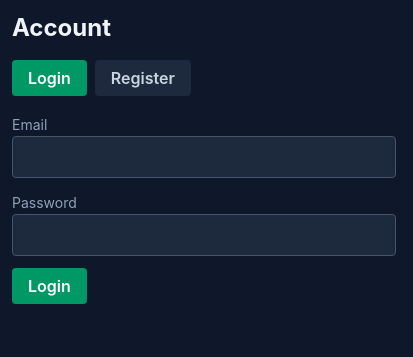
Test: login › surfaces the SDK's error message on a failed login
Step 1. Type "k@example.com" into the field labelled "Email" → [204, 157], box [12,136,396,178]
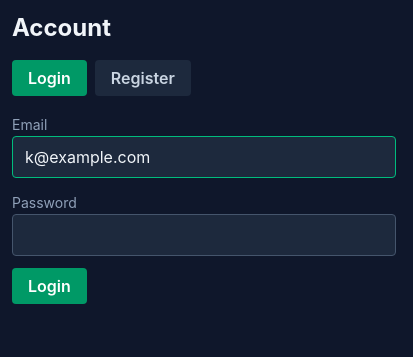
Step 2. Type "wrong-password" into the password field labelled "Password" → [204, 235], box [12,214,396,256]
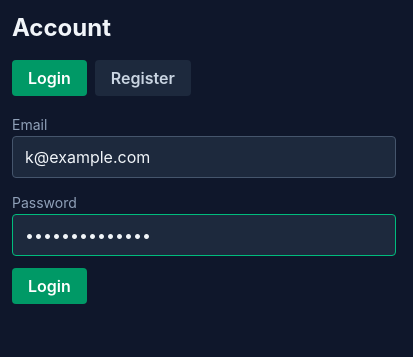
Step 3. Click the button with test id "auth-submit" → [49, 286], box [12,268,87,304]
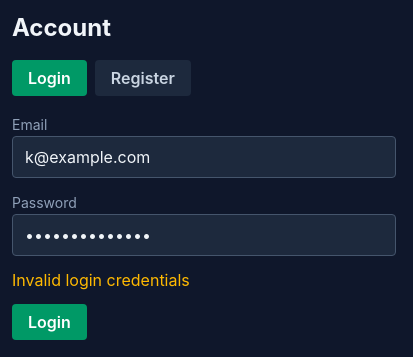
Check: the text with test id "auth-error" reads "Invalid login credentials", box [12,270,190,290]
